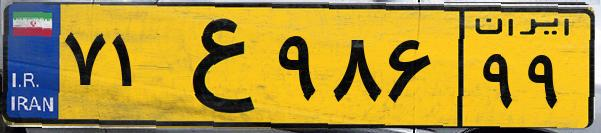1: (110, 28, 158, 98)
6: (385, 28, 445, 110)
7: (57, 26, 110, 100)
8: (330, 28, 385, 110)
9: (270, 28, 330, 110), (475, 38, 525, 113), (525, 38, 570, 115)
ع: (158, 12, 270, 120)
